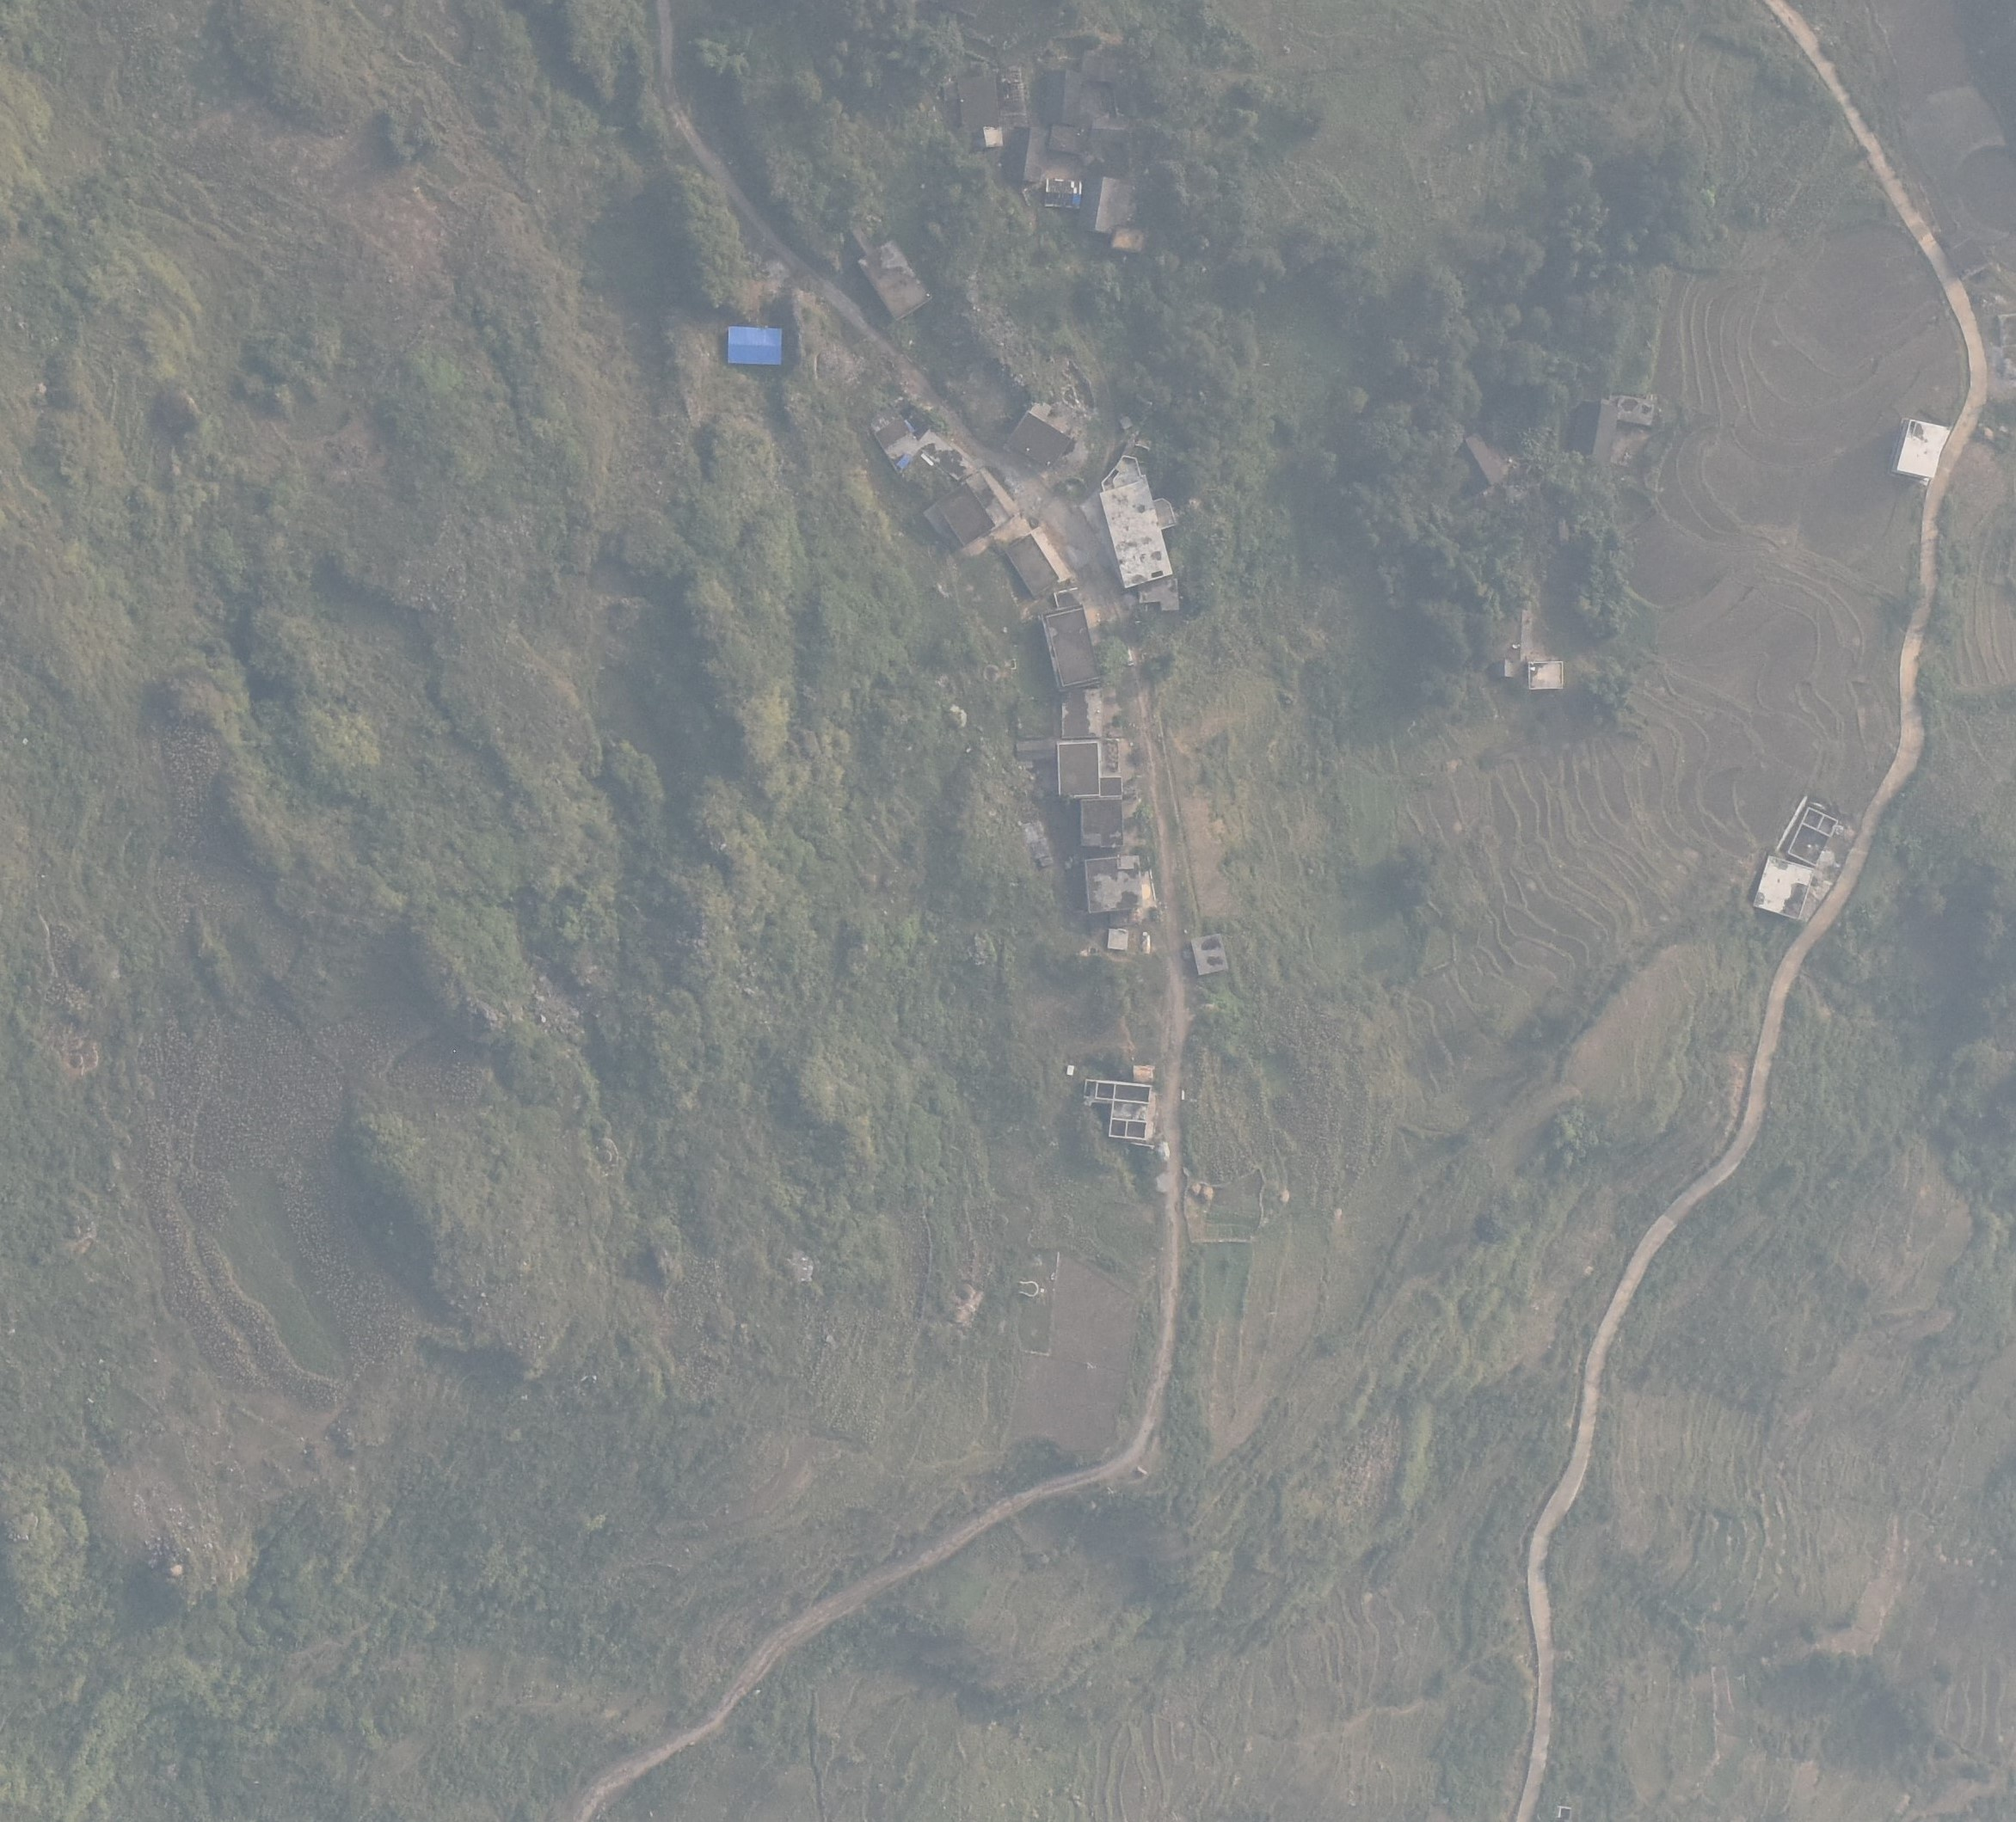building: (1096, 474, 1177, 593), (853, 237, 941, 318), (1041, 606, 1108, 693), (1078, 1072, 1152, 1146), (1080, 848, 1156, 920), (1775, 800, 1842, 879), (1751, 853, 1816, 929), (925, 481, 994, 549), (1883, 411, 1948, 483), (1006, 411, 1075, 477), (1563, 393, 1619, 467), (1003, 532, 1062, 597), (1076, 170, 1129, 237), (1451, 430, 1505, 493), (1054, 737, 1106, 800), (1078, 790, 1129, 855), (954, 72, 1004, 135), (1054, 686, 1106, 744), (1006, 123, 1050, 190), (1041, 65, 1084, 125), (1605, 390, 1656, 430), (1187, 936, 1238, 974), (1085, 114, 1138, 147), (1040, 176, 1087, 211), (1110, 223, 1152, 260), (873, 414, 911, 451), (1526, 658, 1566, 692), (1050, 586, 1085, 613), (1099, 772, 1129, 800), (975, 125, 1004, 153), (1029, 398, 1055, 423), (1105, 927, 1127, 953)
prefabricated-house: (724, 319, 790, 374), (894, 451, 913, 469)
vehicle: (1122, 642, 1138, 671)
